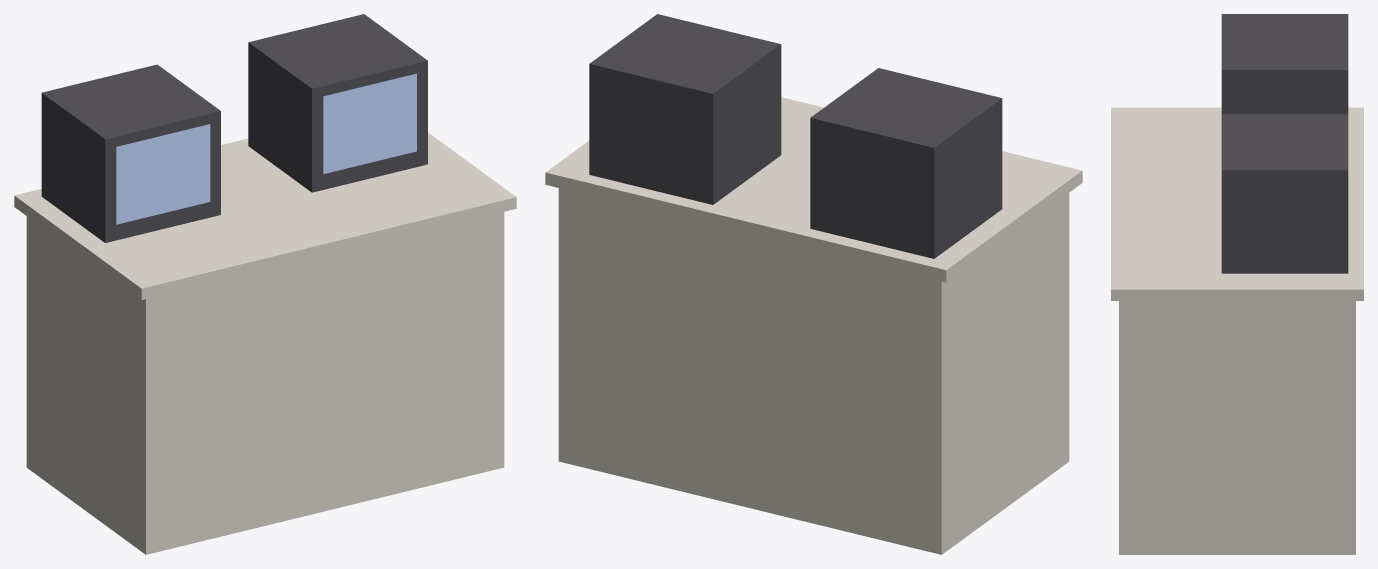
File: security_desk.glb
3 views of the same model, side by side, from view 1: azimuth 30°, elevation 25°; view 2: azimuth 150°, elevation 25°; view 3: azimuth 270°, elevation 25° (orthographic). The views are drawn at different scales.
Parts seen in each view (by area): view 1: laminate, dark, screen, screen.001; view 2: laminate, dark; view 3: laminate, dark.
Boxes of the visible parts, box(x1,y1,x2,y2) form: laminate: box(14, 132, 516, 554); dark: box(41, 14, 427, 242); screen: box(116, 124, 210, 224); screen.001: box(323, 73, 416, 173); laminate: box(545, 97, 1082, 554); dark: box(589, 14, 1002, 258); laminate: box(1111, 107, 1363, 554); dark: box(1221, 14, 1348, 273).
Bounding box in the file's own units: 1.36 × 1.3 × 0.8.
